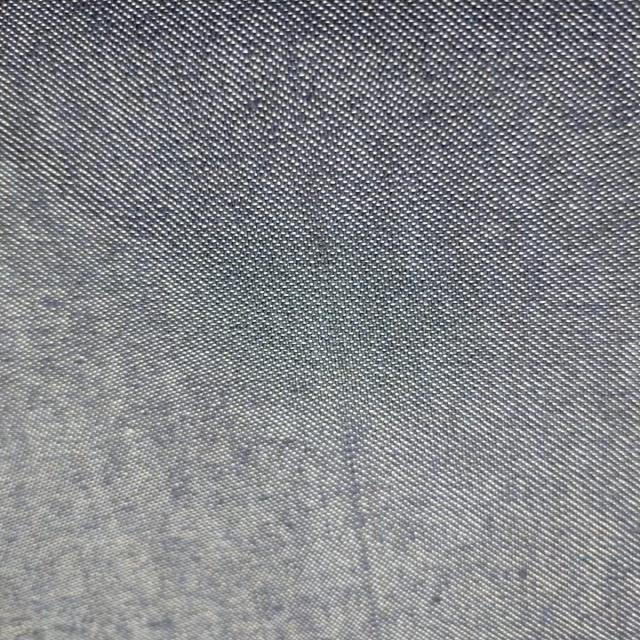Line: (283, 65, 388, 633)
